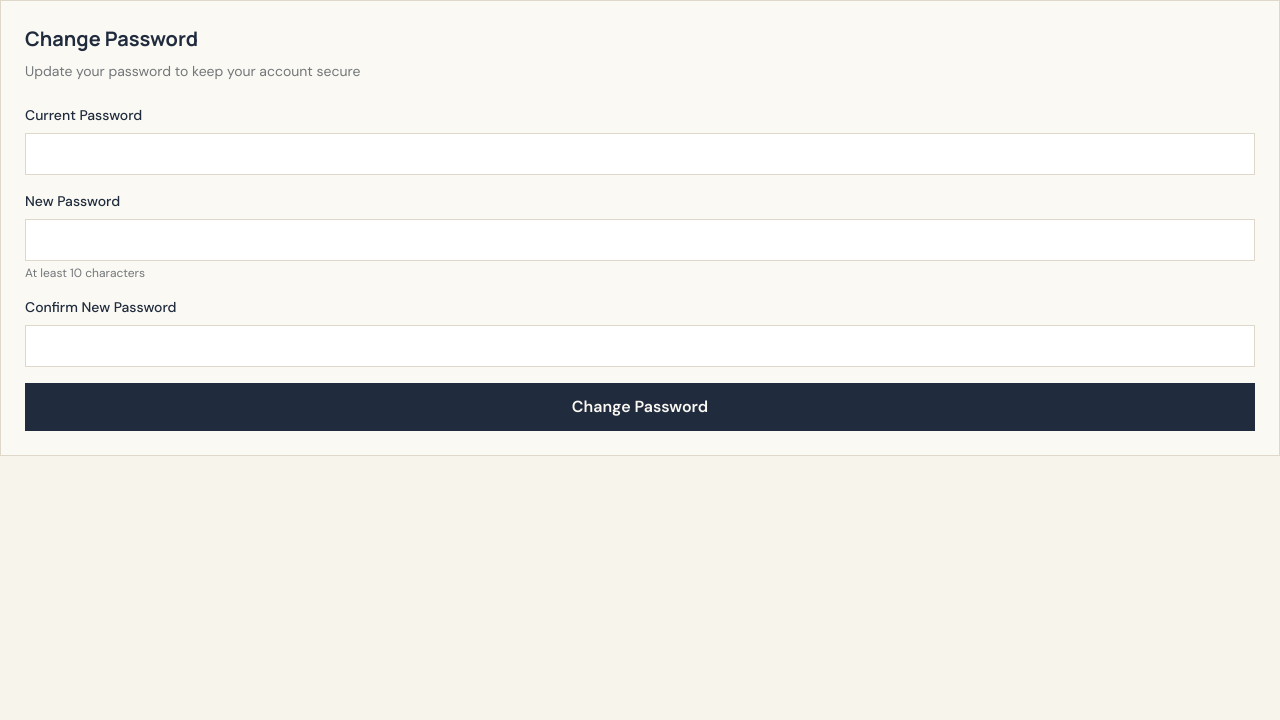
Test case: ChangePasswordForm › submits form successfully
In the password field labelled "Current Password": x=640, y=154 top-left (25, 133), bottom-right (1255, 175), type "oldpassword123"
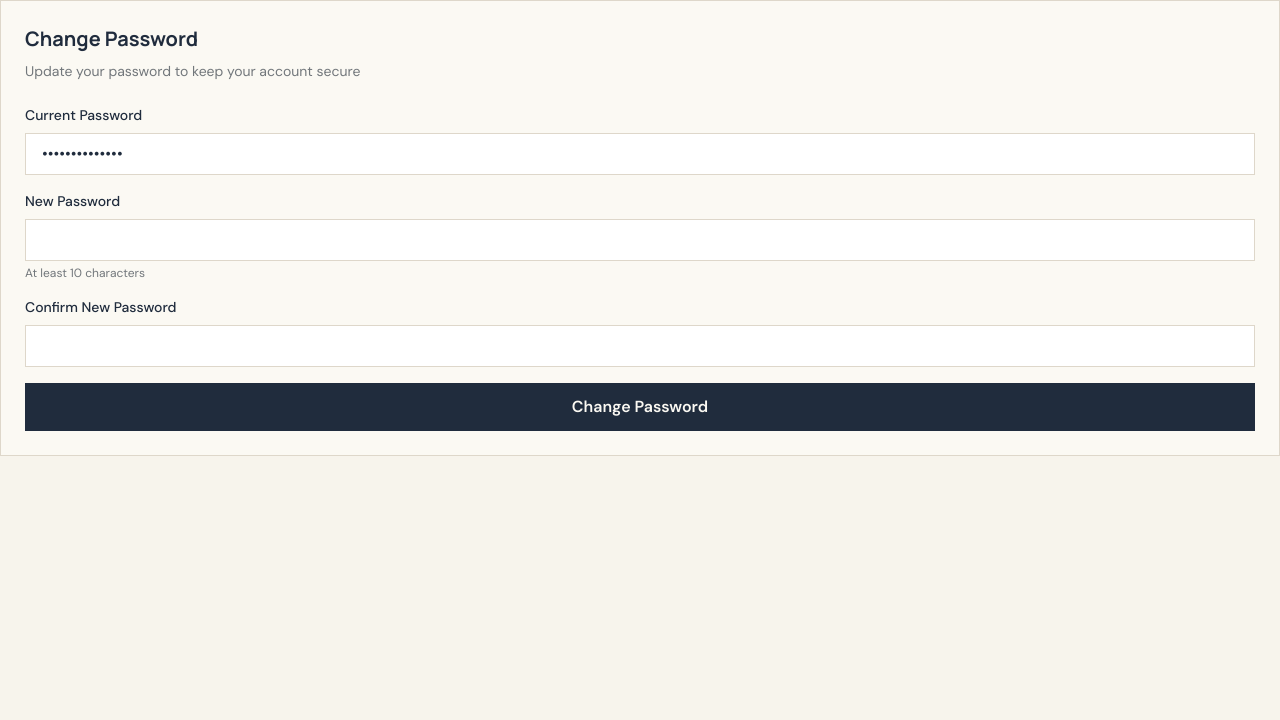
In the password field labelled "New Password": x=640, y=240 top-left (25, 219), bottom-right (1255, 261), type "newpassword123"
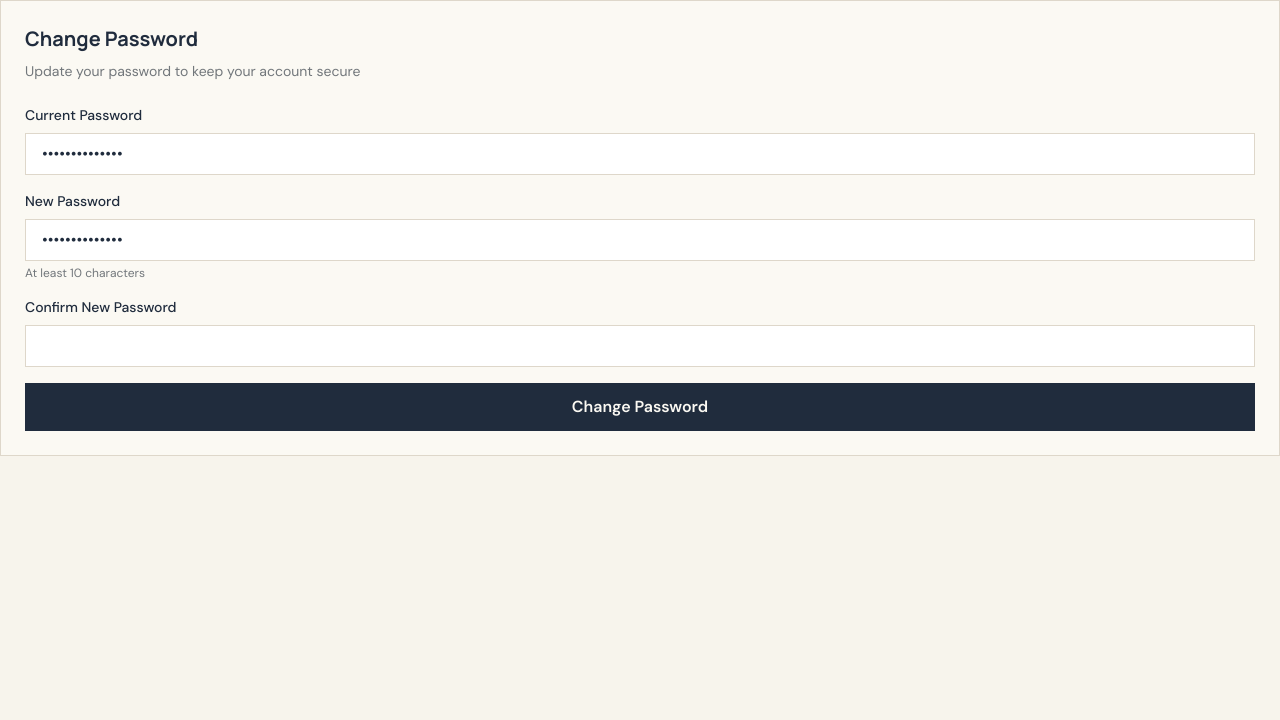
In the password field labelled "Confirm New Password": x=640, y=346 top-left (25, 325), bottom-right (1255, 367), type "newpassword123"
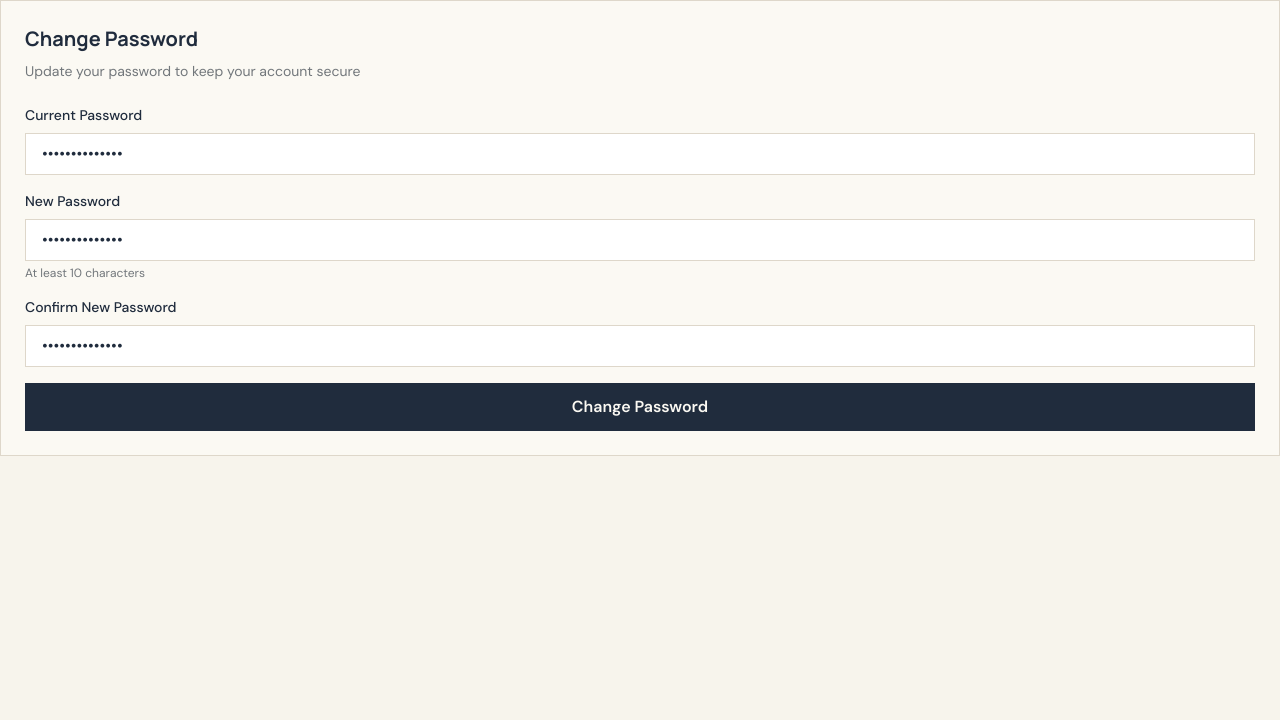
Click the button "Change Password": x=640, y=407 top-left (25, 383), bottom-right (1255, 431)
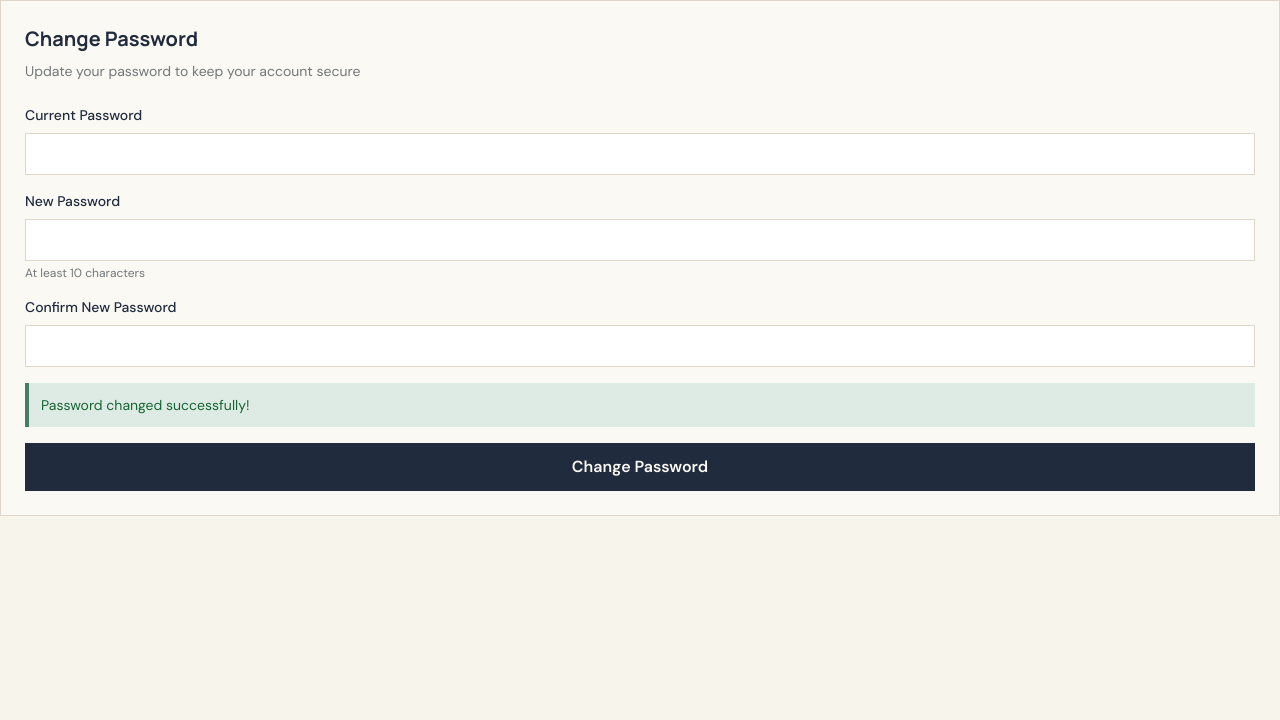
Result: the text "Password changed successfully!" is shown at top-left (25, 383), bottom-right (1255, 427)
